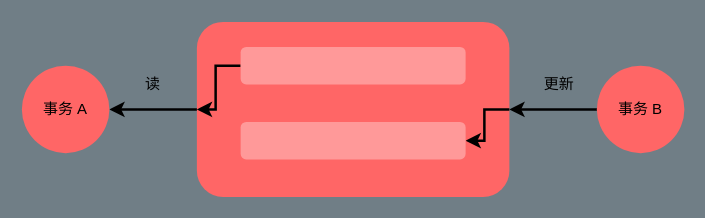
Image size: 705x218. Some labels were removed from this diagram. Each missing label, with the box of its shape:
新记录 1: (240, 121, 465, 159)
旧记录 1 undo log: (240, 46, 465, 84)
